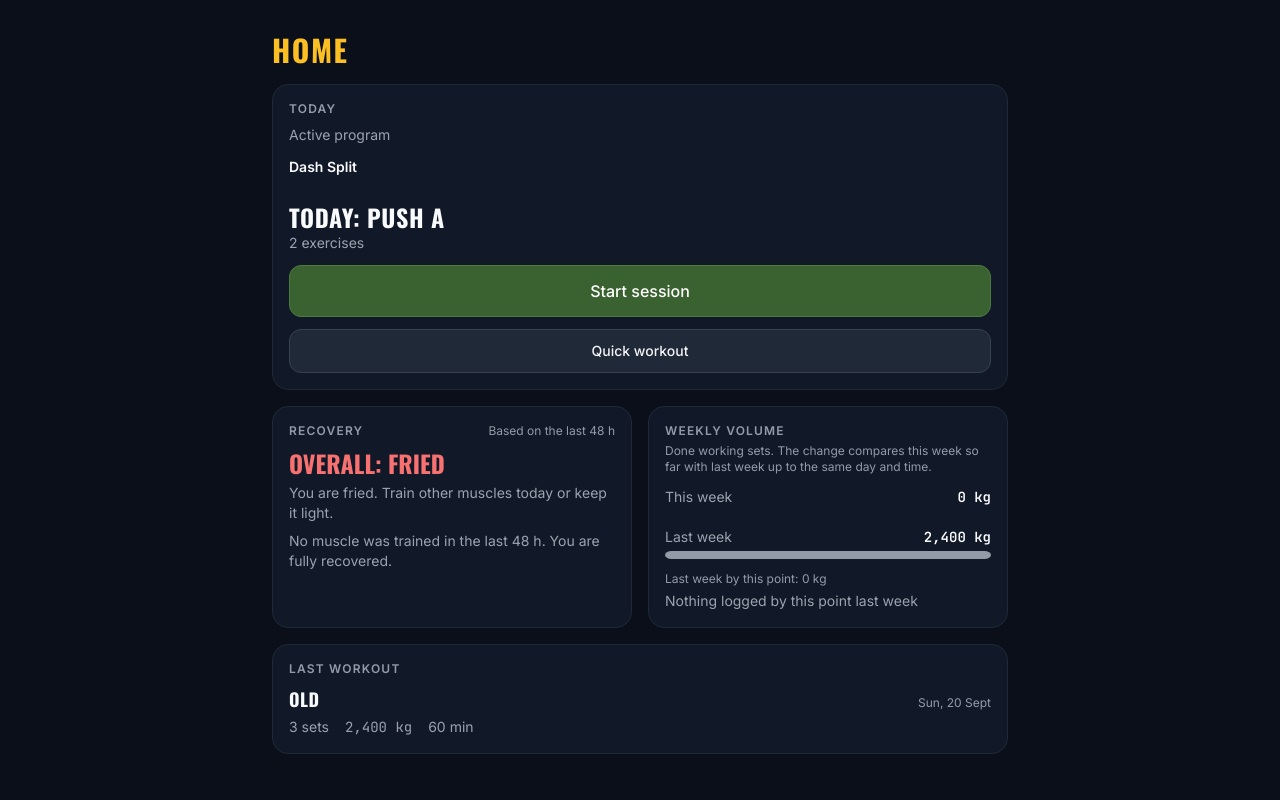
dashboard "start today" builds the /workout draft › asks the deload question first when recovery is fried, and applies an accepted deload
Click the button with test id "dash-start-session" at (640, 291), box [289,265,991,317]
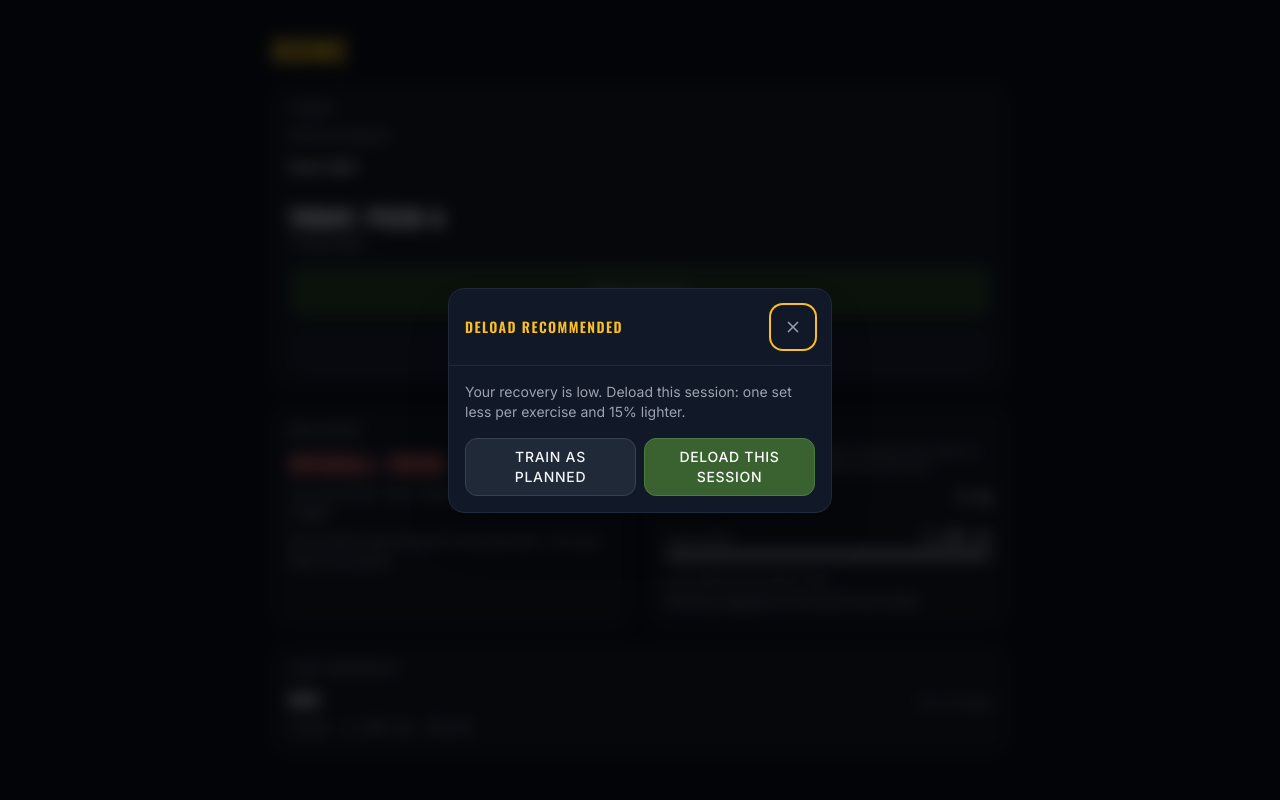
Expected: the element with test id "deload-offer" is shown, [465,382,815,496]
Click the button with test id "deload-accept" at (730, 466), box [644,438,815,496]
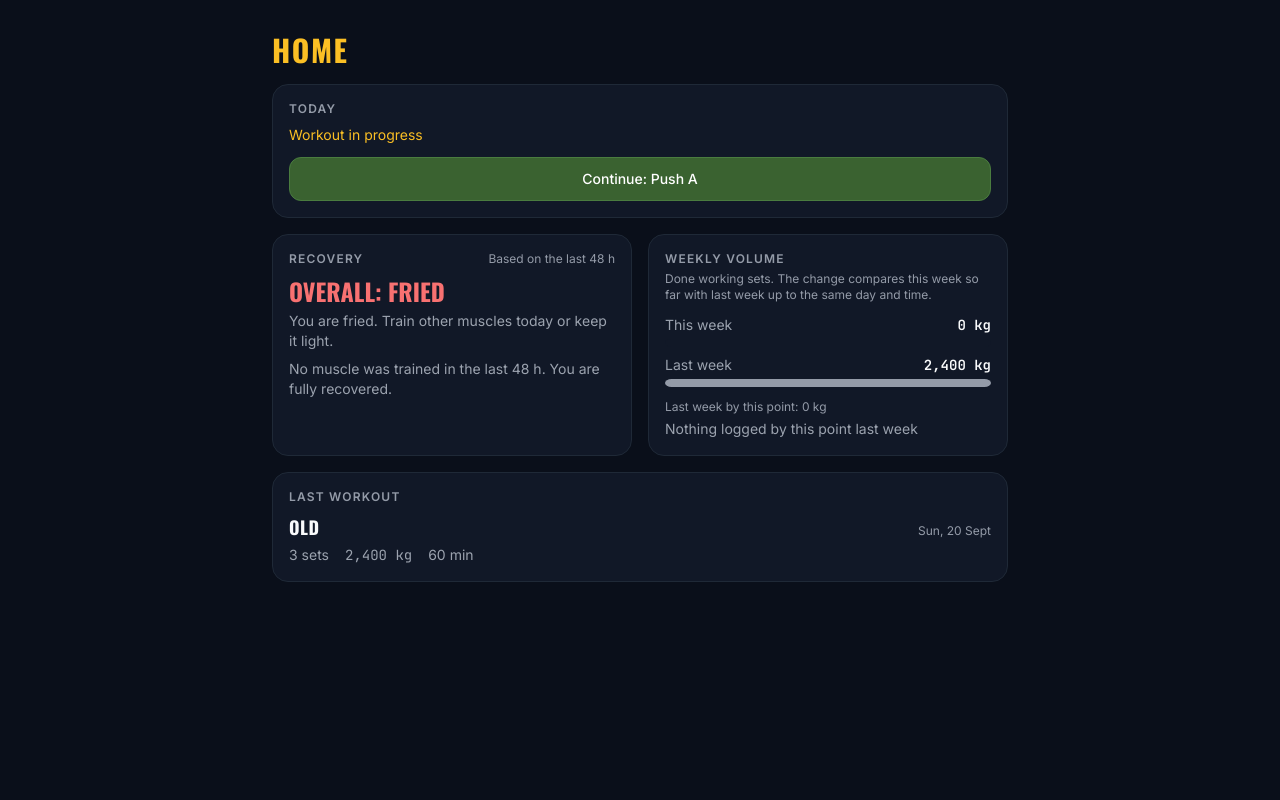
Expected: the element with test id "deload-offer" is gone
